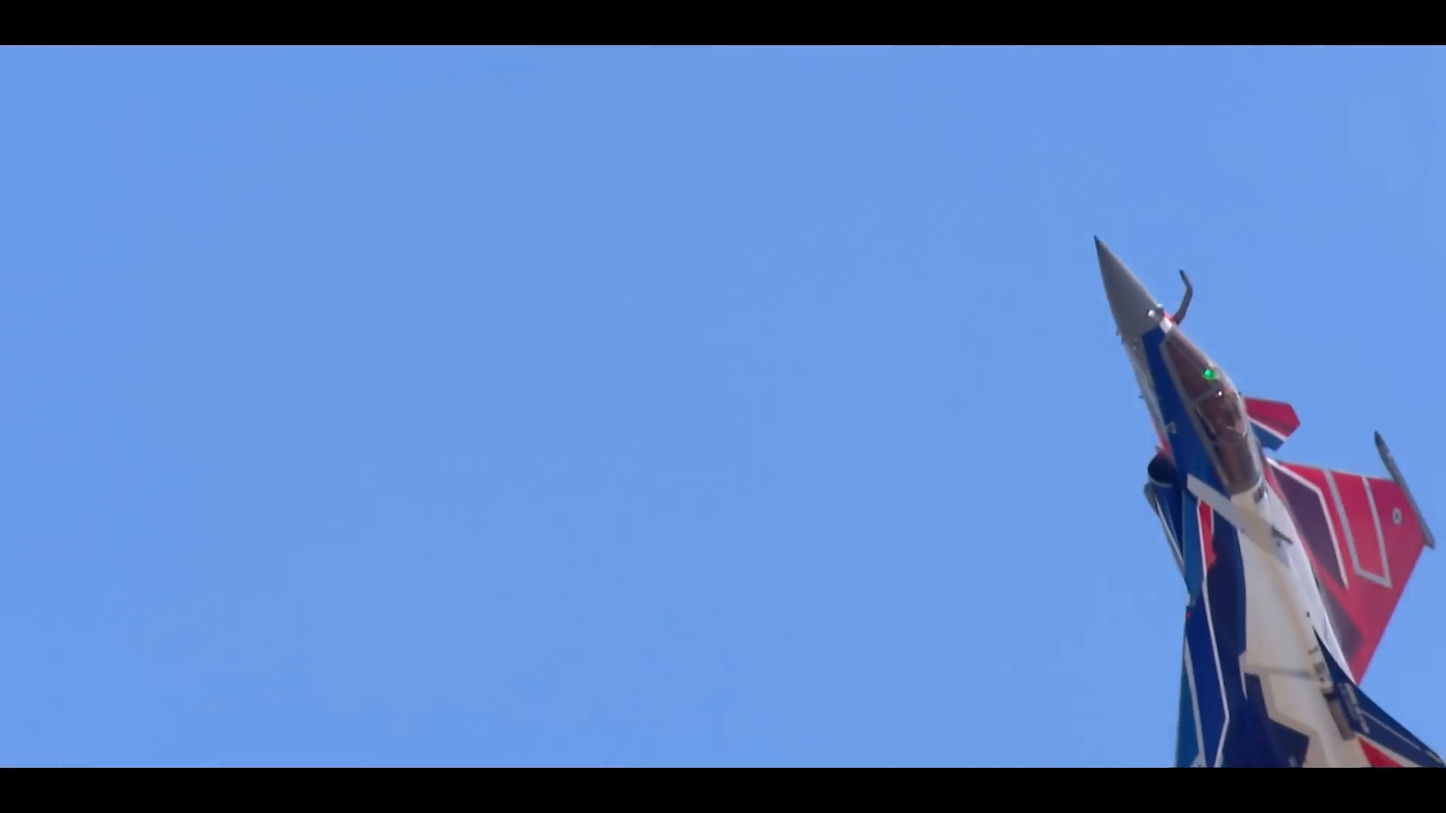Rafale: (1092, 237, 1446, 767)
